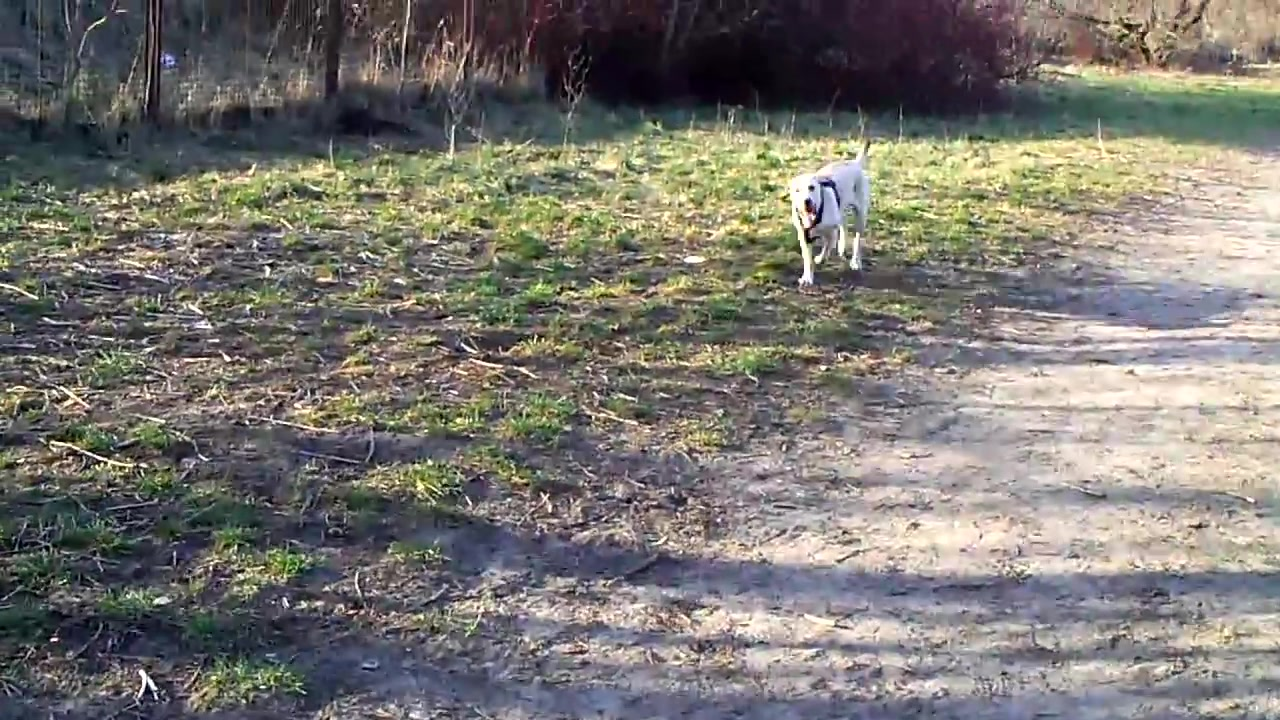dog: (786, 142, 877, 293)
